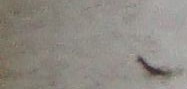Exposed reinforcement: (136, 55, 170, 76)
